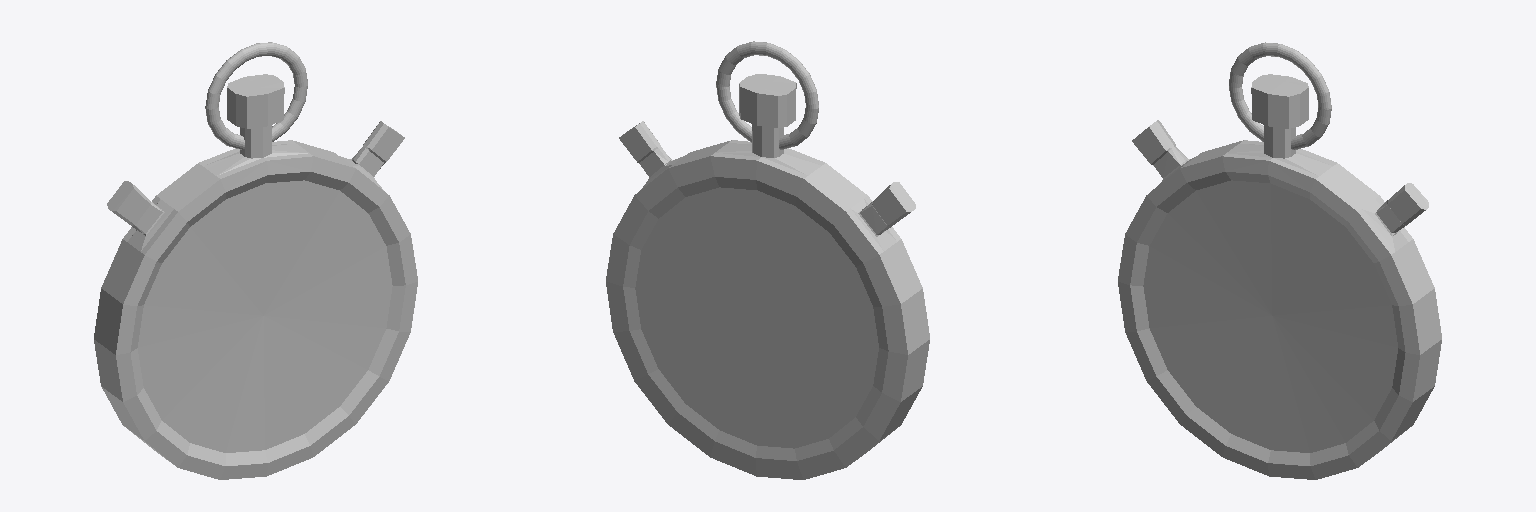
Rendered from stopWatch.obj.
3 views of the same model, side by side, from view 1: azimuth 30°, elevation 25°; view 2: azimuth 150°, elevation 25°; view 3: azimuth 330°, elevation 25° (orthographic).
Parts seen in each view (by area): view 1: pCylinder1, pTorus1; view 2: pCylinder1, pTorus1; view 3: pCylinder1, pTorus1.
Boxes of the visible parts, box(x1,y1,x2,y2) form: pCylinder1: box(94, 74, 417, 479); pTorus1: box(205, 42, 307, 149); pCylinder1: box(606, 74, 929, 479); pTorus1: box(716, 41, 818, 149); pCylinder1: box(1118, 74, 1441, 479); pTorus1: box(1229, 42, 1331, 149).
Size of the model in its own units: 1.69 by 2.27 by 0.2365.